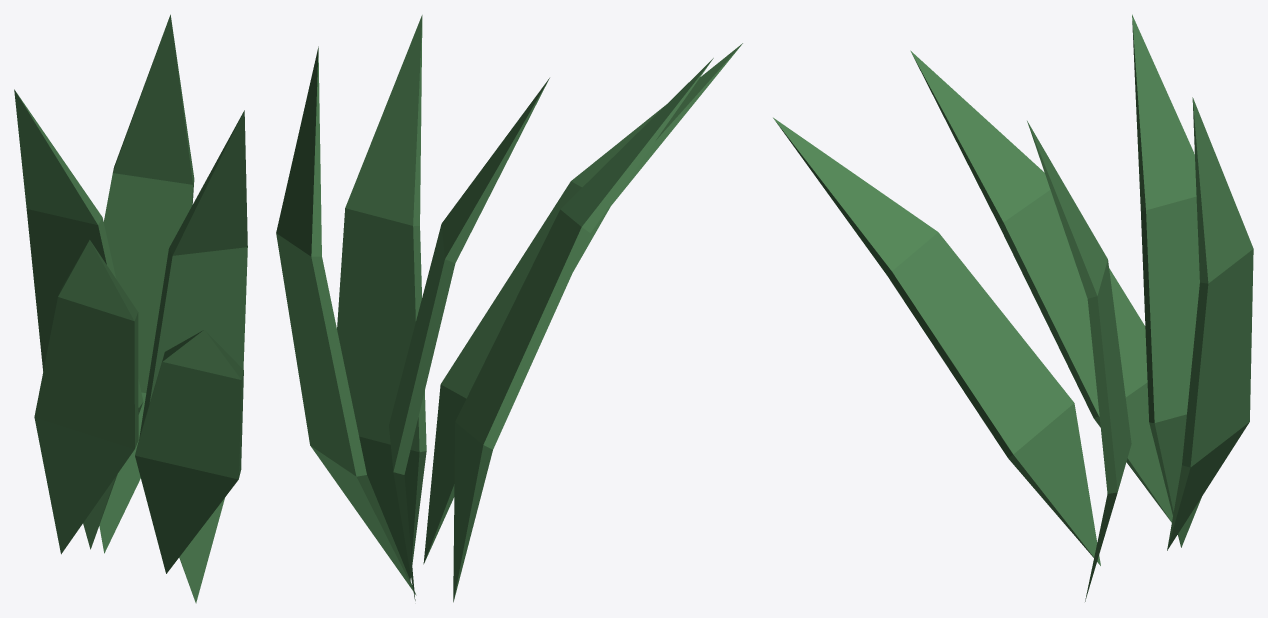
Rendered from Seaweed_012.glb.
3 views of the same model, side by side, from view 1: azimuth 30°, elevation 25°; view 2: azimuth 150°, elevation 25°; view 3: azimuth 270°, elevation 25° (orthographic). The views are drawn at different scales.
Parts seen in each view (by area): view 1: Seaweed_012; view 2: Seaweed_012; view 3: Seaweed_012.
Boxes of the visible parts, bbox=[...] form: Seaweed_012: bbox=[14, 14, 247, 603]; Seaweed_012: bbox=[276, 15, 742, 602]; Seaweed_012: bbox=[773, 14, 1253, 601].
Bounding box in the file's own units: 0.3981 × 0.7942 × 0.6638.
1 material, 1 textured.
